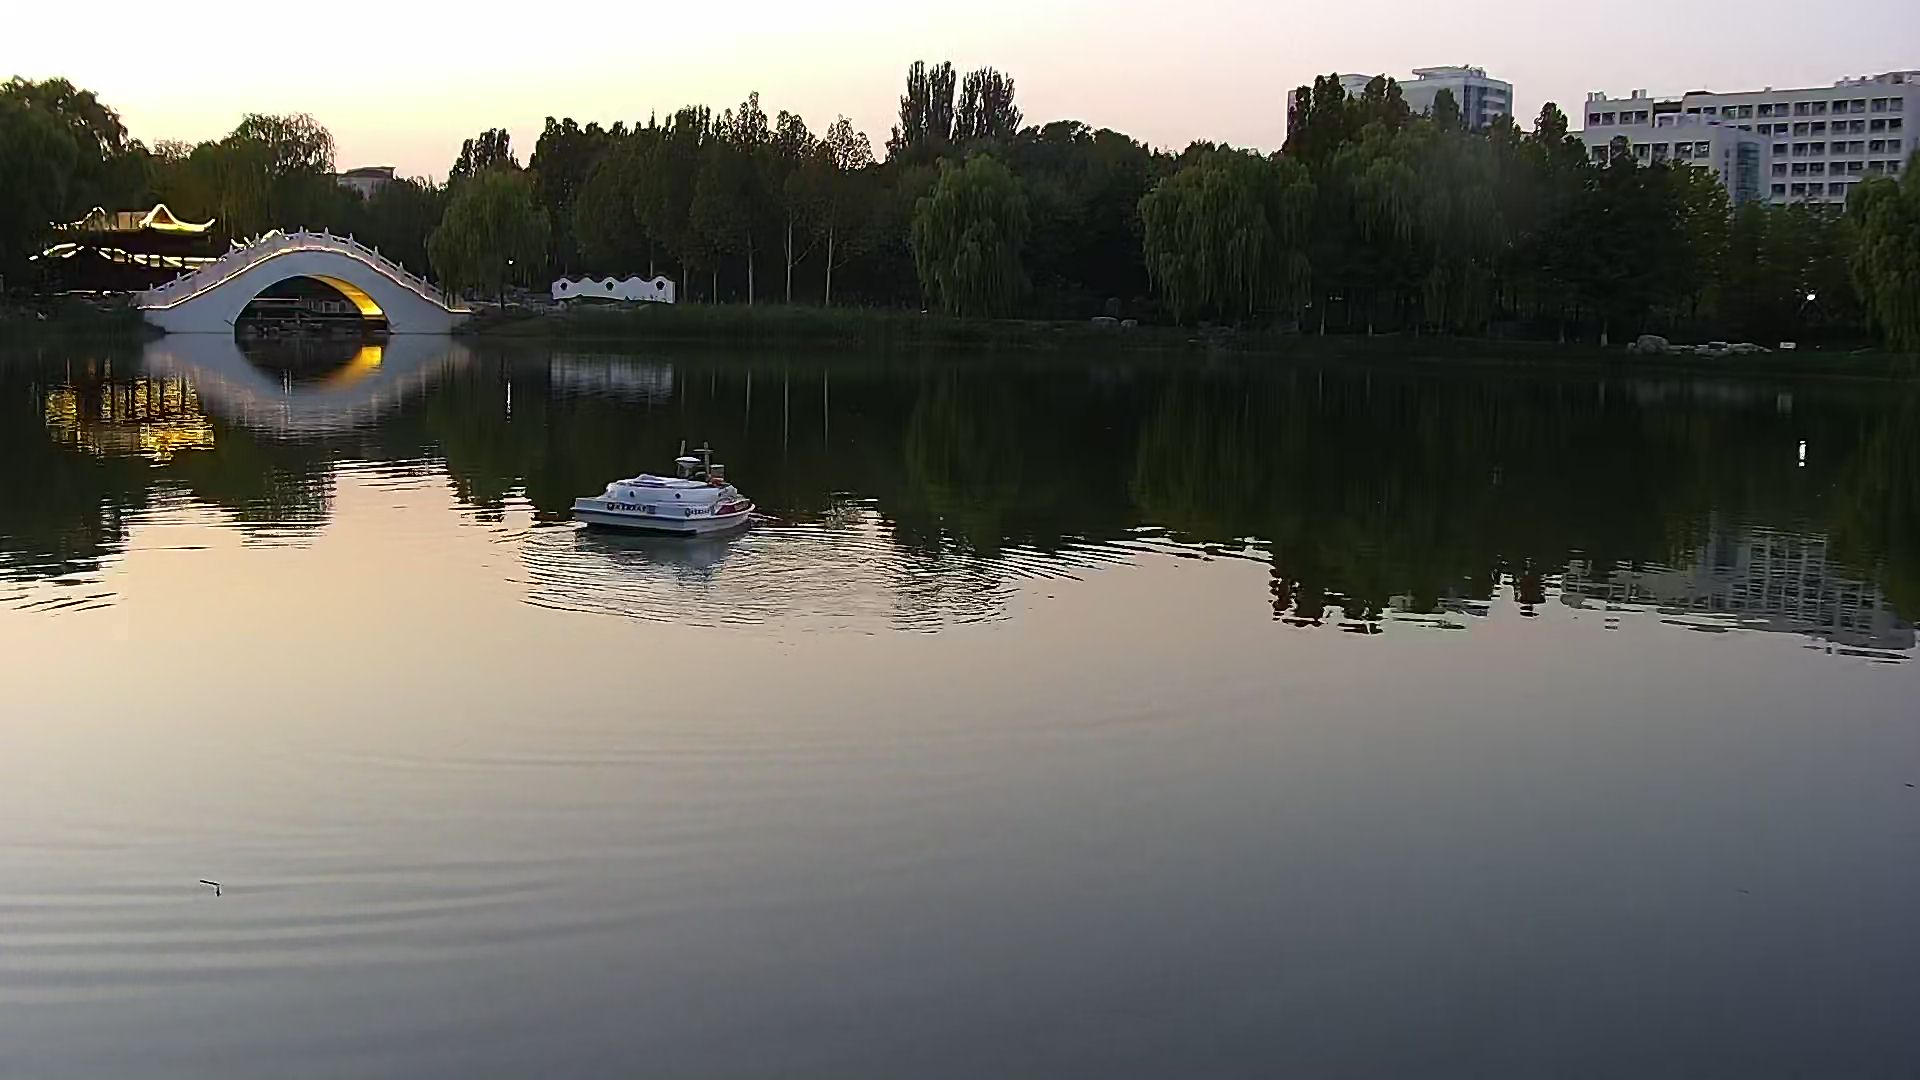boat: (567, 446, 764, 545)
bridge: (146, 227, 460, 332)
rock: (1629, 324, 1772, 364)
